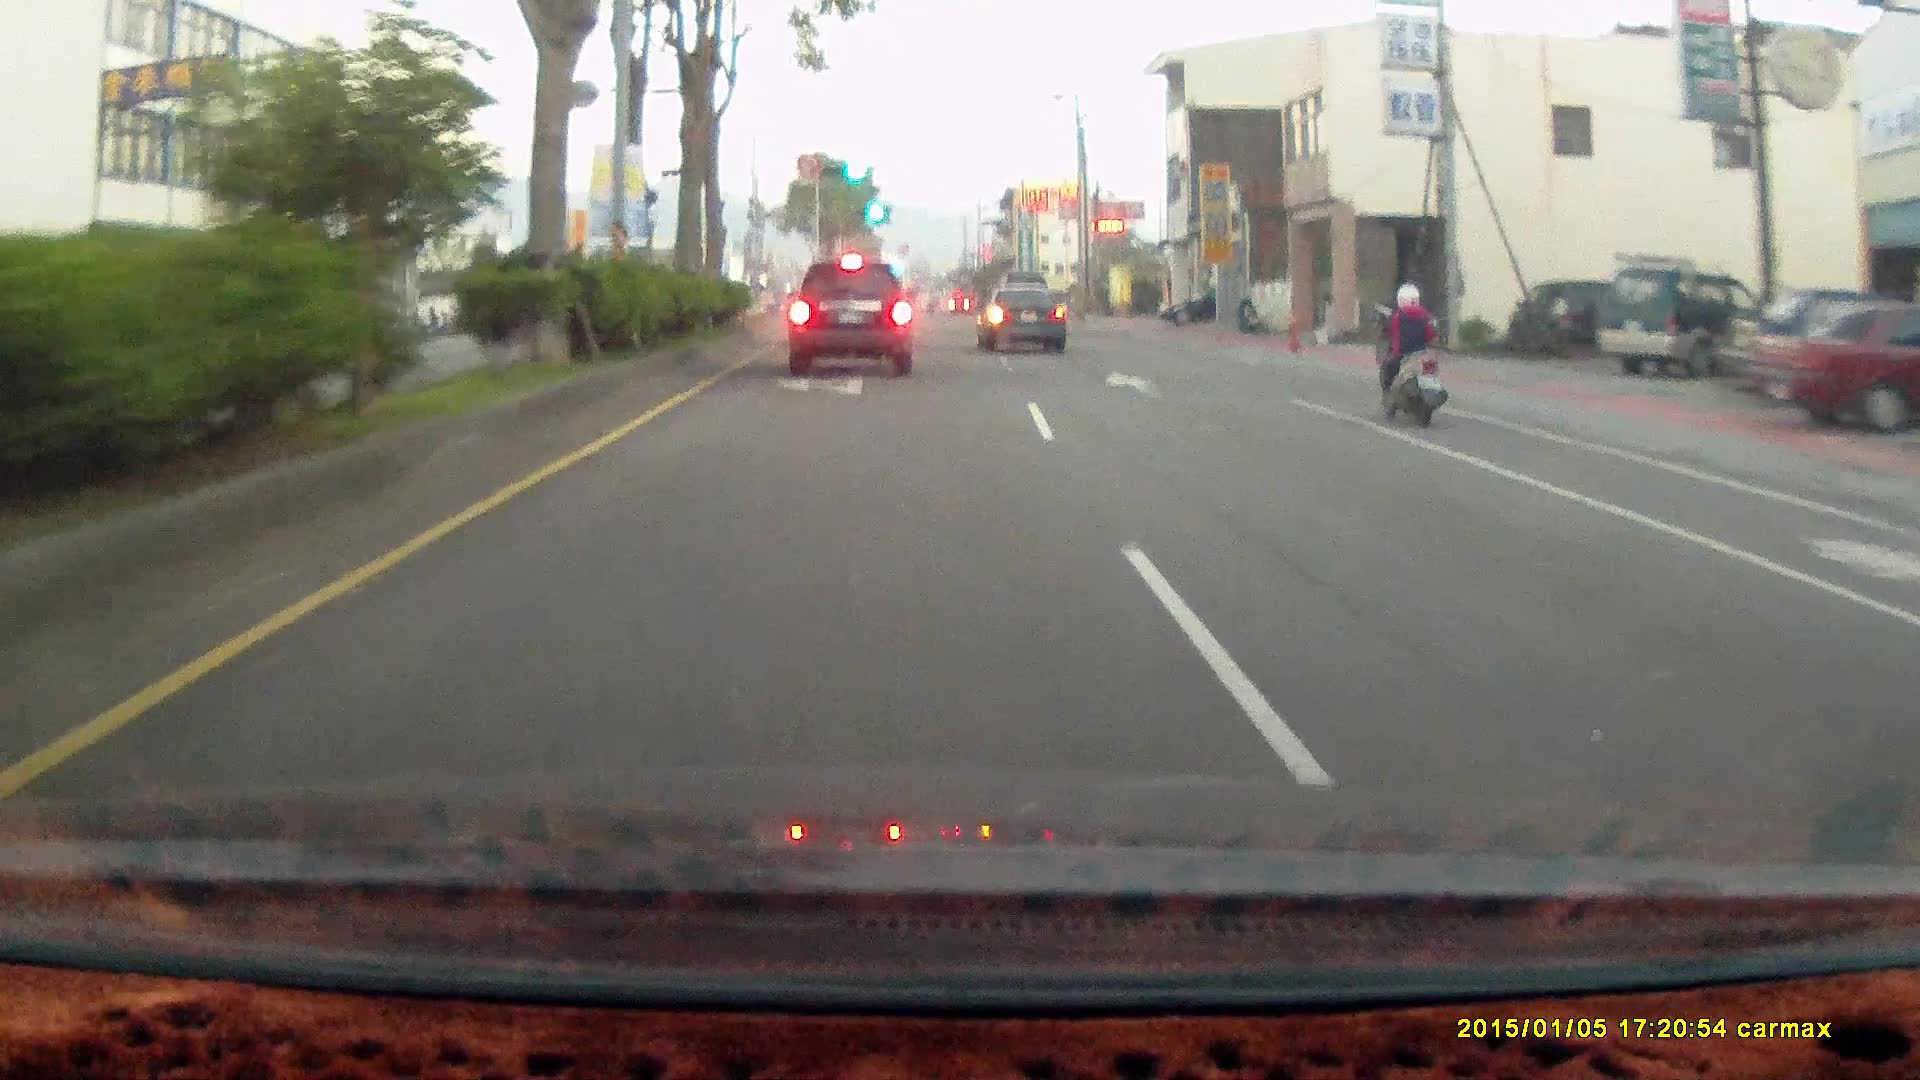rider: (1360, 267, 1460, 441), (1369, 283, 1447, 427)
vehicle: (1741, 297, 1920, 435), (1744, 298, 1920, 434), (1592, 267, 1777, 380), (1595, 268, 1770, 384), (792, 253, 919, 374), (787, 259, 912, 377), (1508, 278, 1620, 355), (978, 286, 1071, 355), (978, 284, 1065, 350), (1156, 288, 1252, 326), (1156, 288, 1219, 328)
